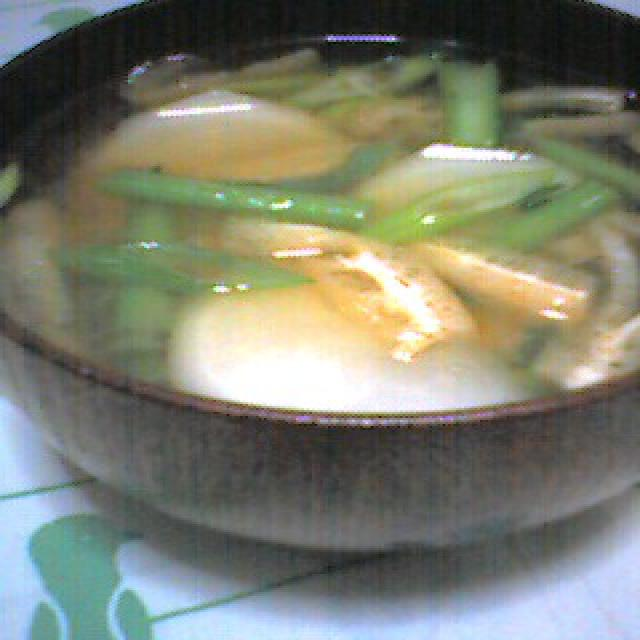汤锅炖物: (0, 0, 640, 568)
